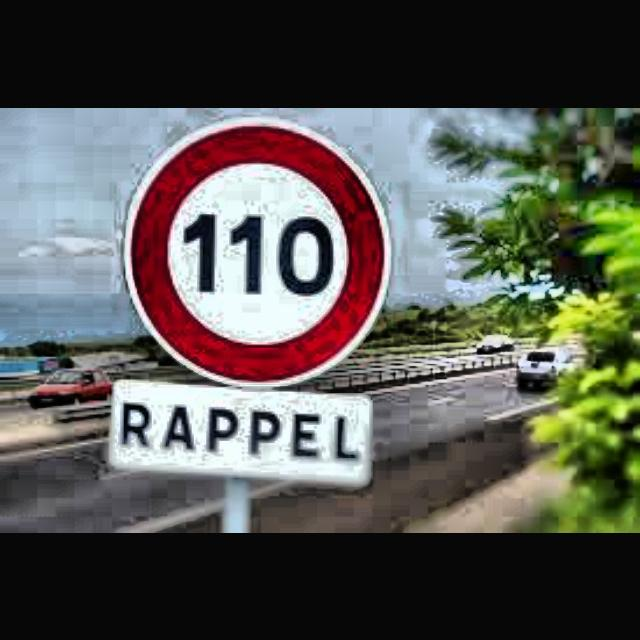speed_110: (126, 116, 390, 388)
